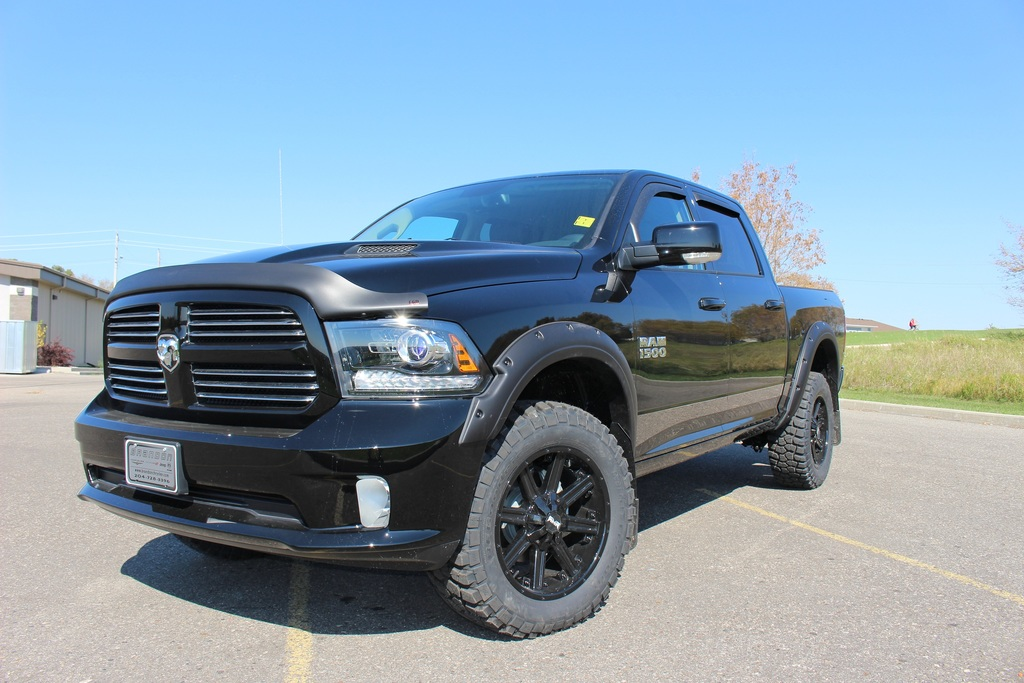car: (52, 149, 860, 649)
